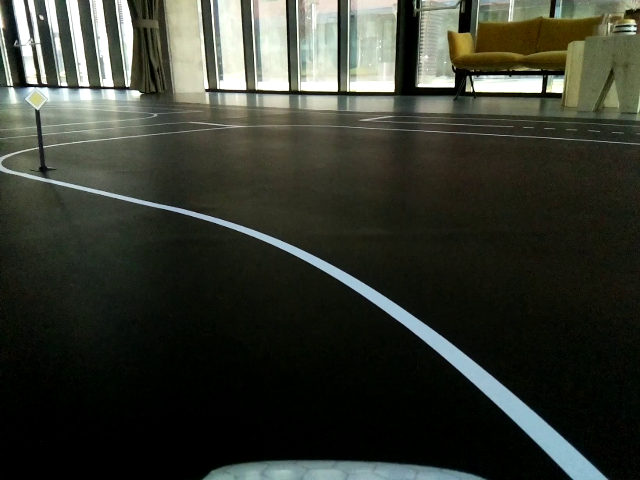priority: (26, 89, 47, 110)
